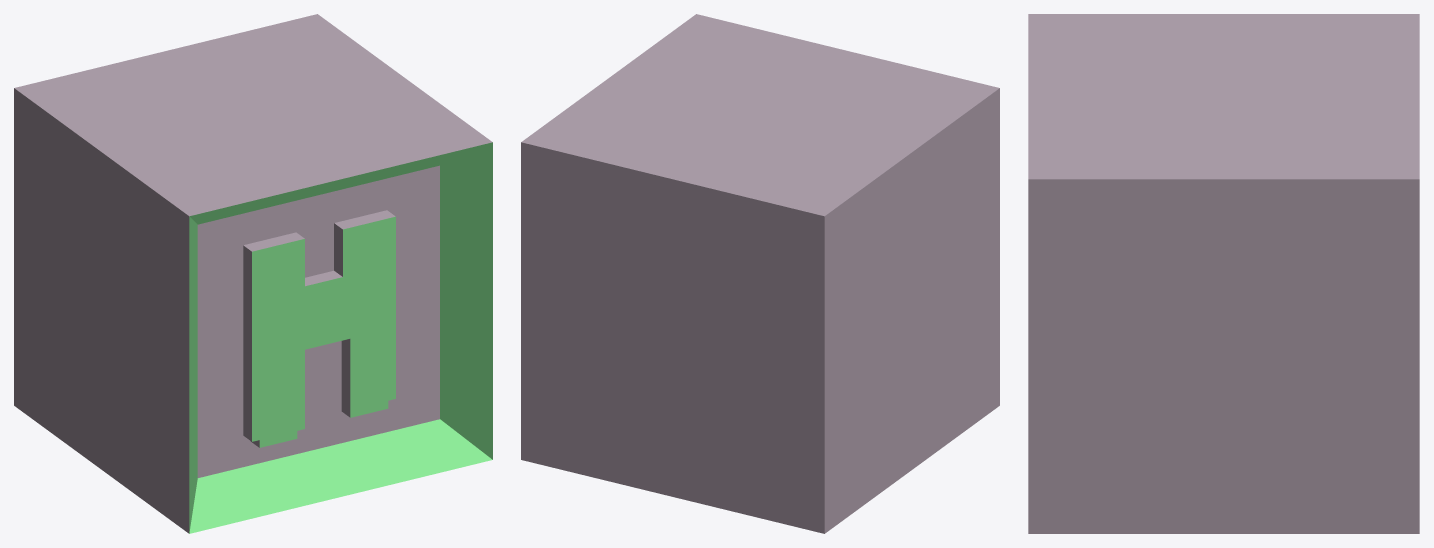
Rendered from BlockH.fbx.
3 views of the same model, side by side, from view 1: azimuth 30°, elevation 25°; view 2: azimuth 150°, elevation 25°; view 3: azimuth 270°, elevation 25° (orthographic). The views are drawn at different scales.
Parts seen in each view (by area): view 1: Cube; view 2: Cube; view 3: Cube.
Boxes of the visible parts, bbox=[...] form: Cube: bbox=[14, 14, 492, 533]; Cube: bbox=[521, 14, 999, 533]; Cube: bbox=[1028, 14, 1419, 533].
Bounding box in the file's own units: 2000 × 2000 × 2000.
